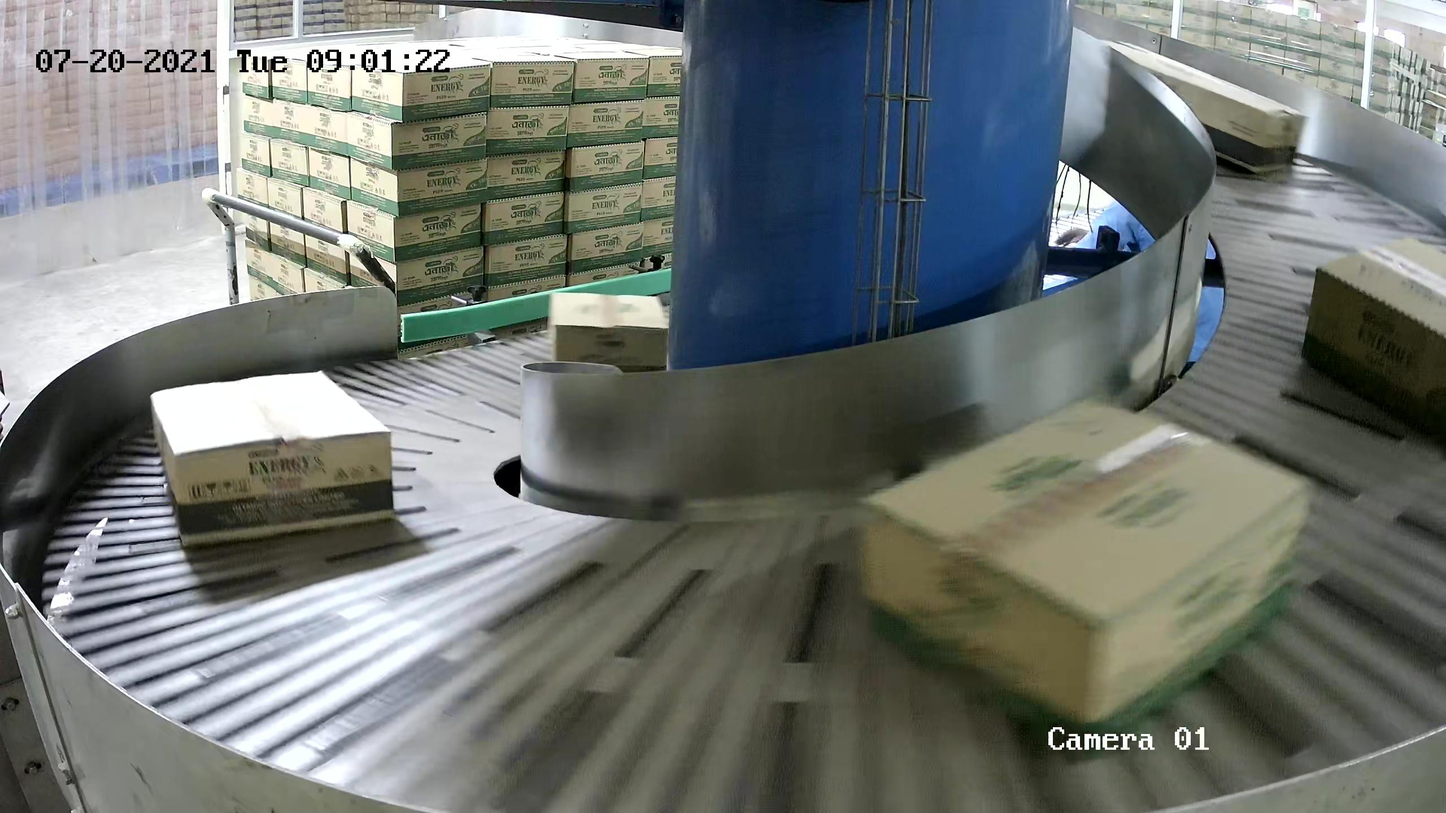Box: (859, 396, 1320, 763), (150, 370, 398, 549), (1300, 236, 1446, 454), (1086, 38, 1307, 174), (549, 291, 672, 385)
